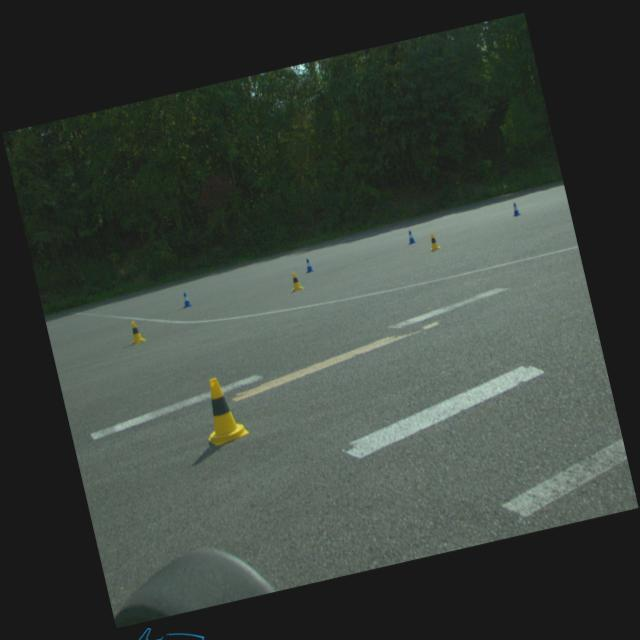blue_cone: (180, 290, 192, 307), (303, 258, 314, 272), (510, 202, 520, 216), (406, 230, 416, 243)
yellow_cone: (195, 372, 250, 446), (126, 318, 146, 344), (288, 270, 304, 291), (426, 232, 441, 251)
